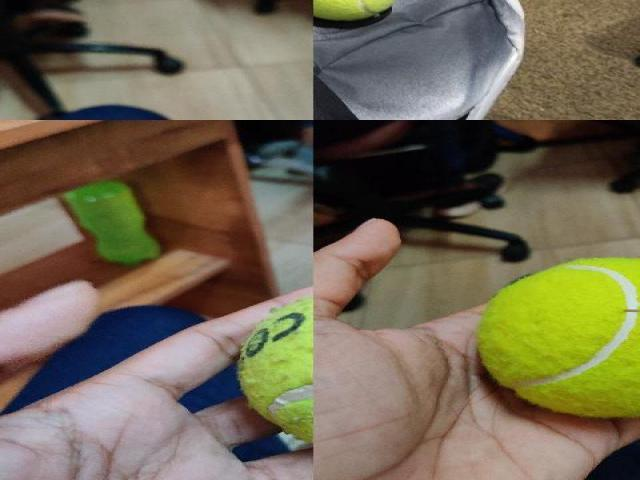tennis-ball: (474, 257, 638, 416), (236, 284, 312, 456), (313, 0, 400, 21)
